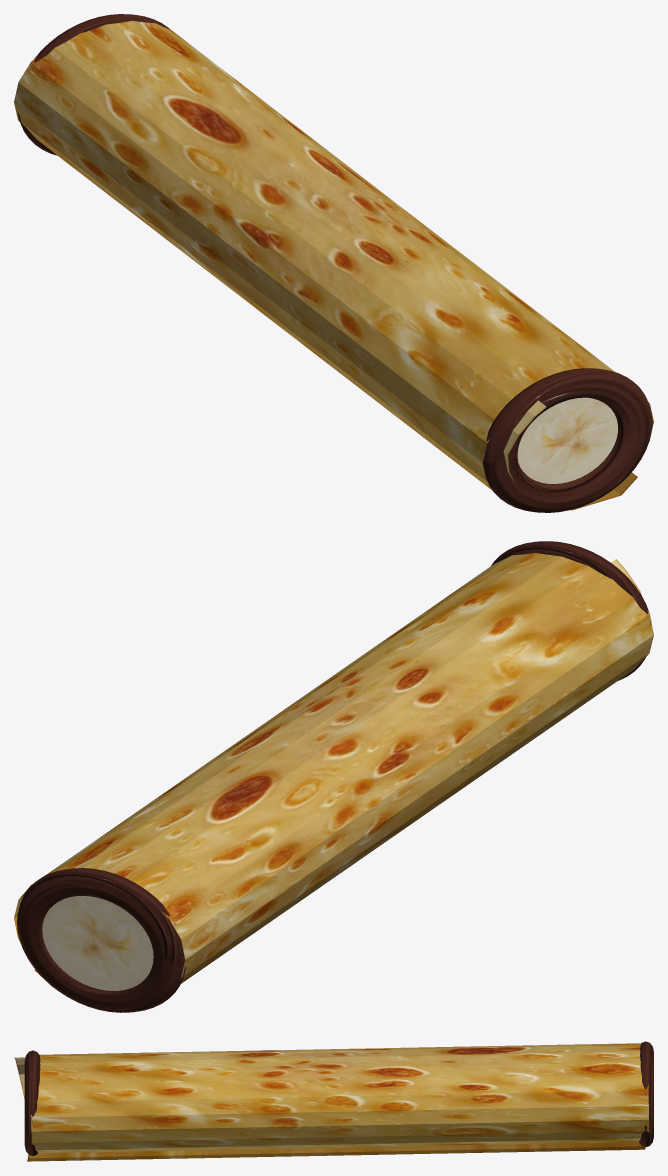
File: crepe.fbx
3 renders of one model, top to bottom at view 1: azimuth 30°, elevation 25°; view 2: azimuth 150°, elevation 25°; view 3: azimuth 270°, elevation 25°, orthographic. The views are drawn at different scales.
Visible parts, largest first — view 1: Cylinder, Torus.001, Cylinder.002, Torus; view 2: Cylinder, Torus, Cylinder.001, Torus.001; view 3: Cylinder, Torus.001, Torus.
Boxes of the visible parts, x1,y1,x2,y2 form: Cylinder: (14,20,653,510); Torus.001: (483,368,652,512); Cylinder.002: (517,397,618,483); Torus: (18,14,169,155); Cylinder: (14,553,653,987); Torus: (17,868,185,1012); Cylinder.001: (42,896,153,990); Torus.001: (491,541,651,680); Cylinder: (14,1043,649,1161); Torus.001: (24,1050,40,1156); Torus: (639,1041,653,1146).
Bounding box in the file's own units: 109 × 92.5 × 536.
5 materials, 5 textured.
